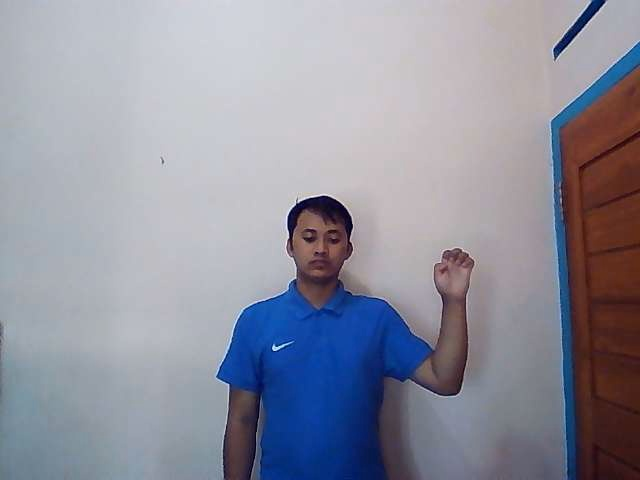E: (432, 247, 476, 299)
